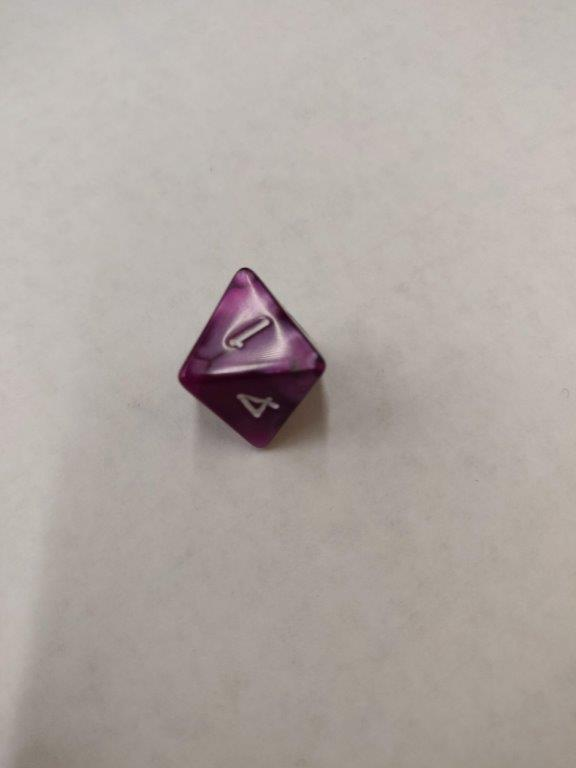d8-1: (174, 267, 326, 449)
